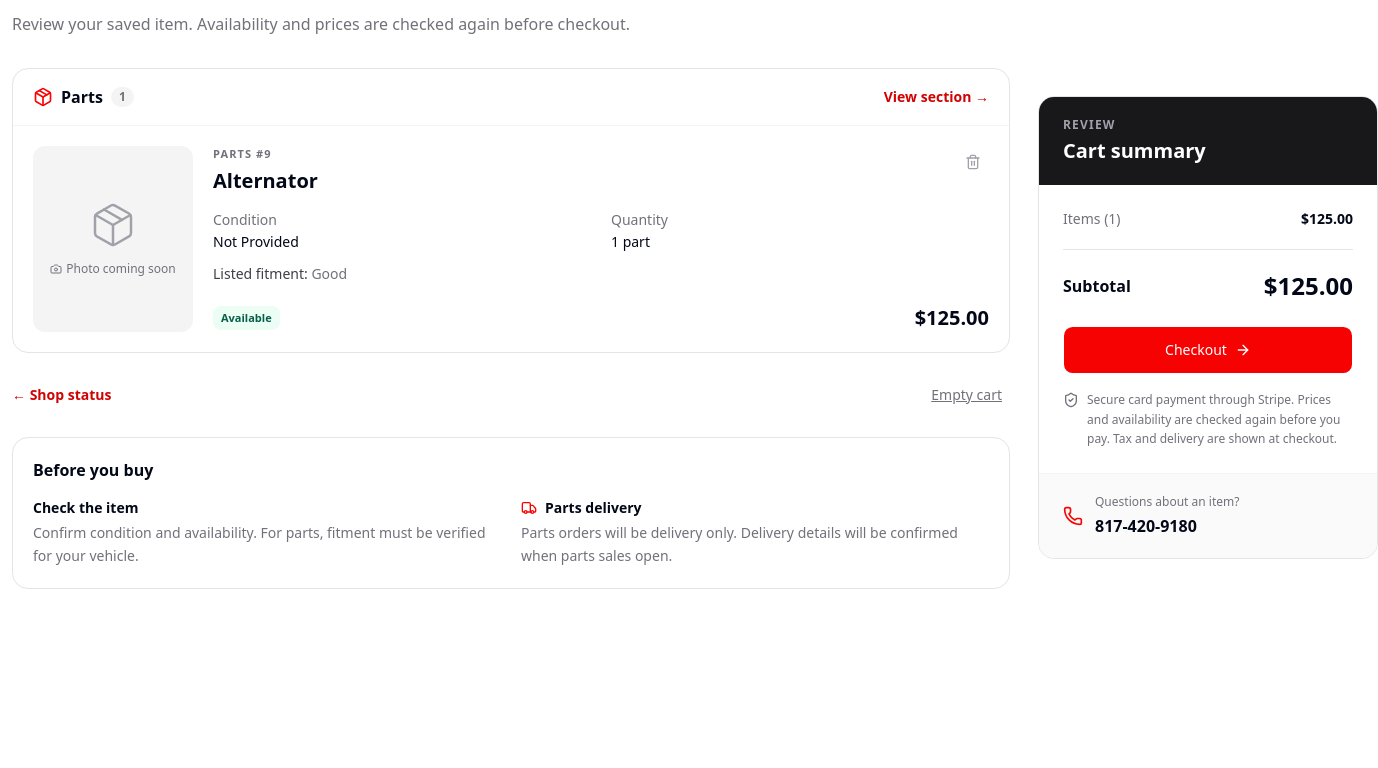
Scenario: a 503 checkout_disabled from the proxy reads as "Checkout is not open yet", not as an error
Click the button "Checkout" at [1208, 350], box [1063,326,1353,374]
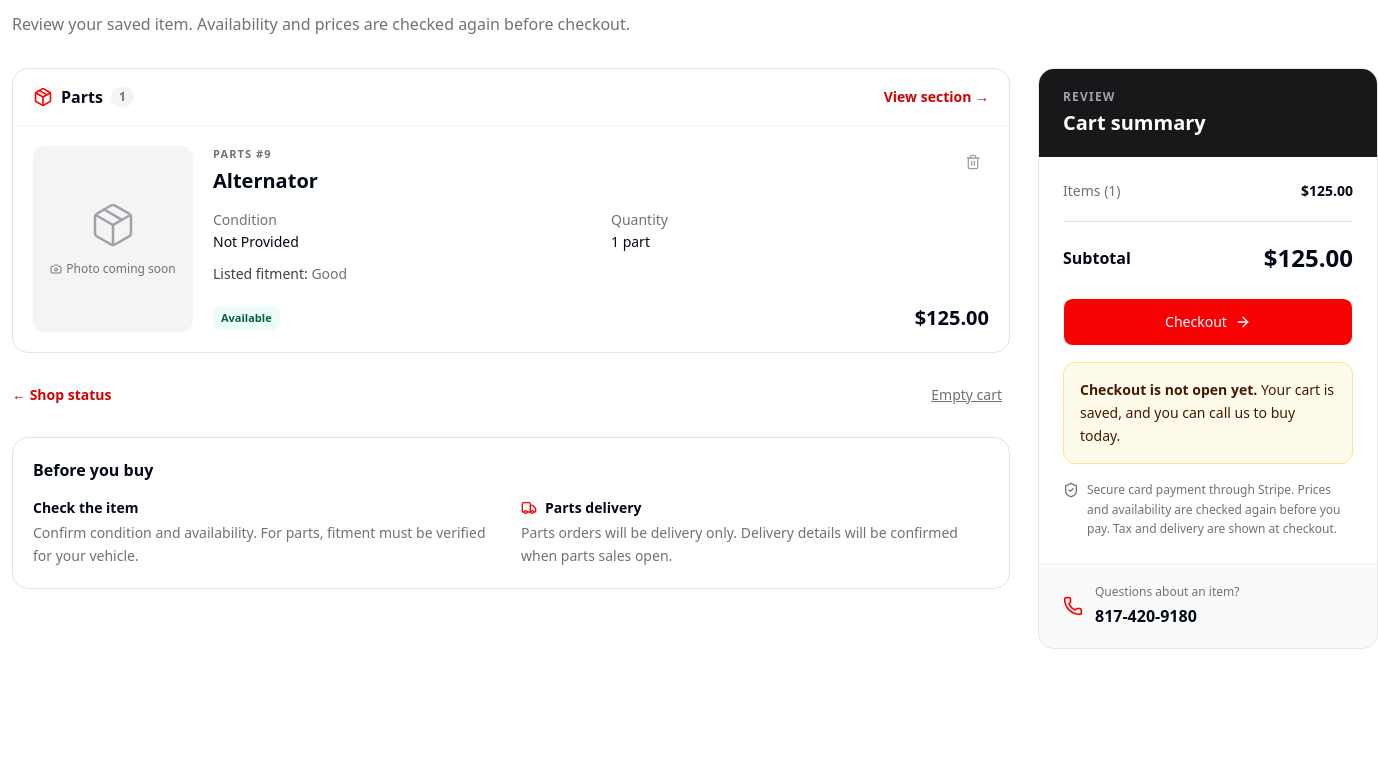
Check: the heading "Alternator" is shown, box [213,166,318,194]
Check: the message shows "Checkout is not open yet.", box [1080,380,1257,399]
Check: the message shows "Your cart is saved", box [1080,380,1334,444]
